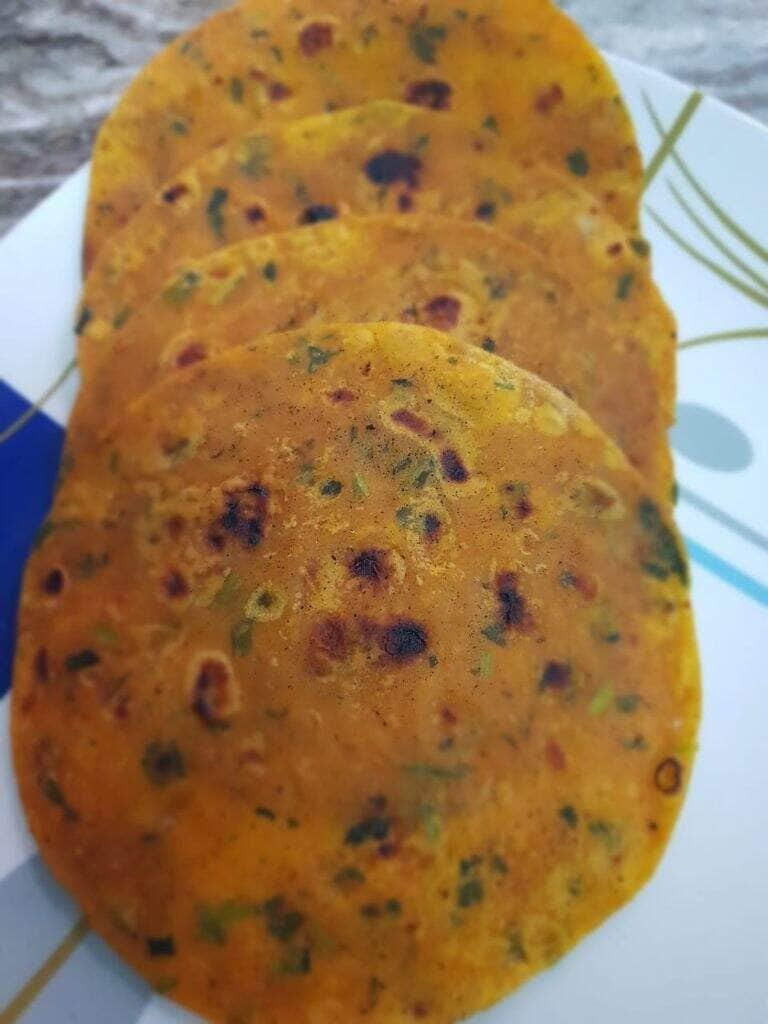thepla: (96, 13, 647, 1018)
